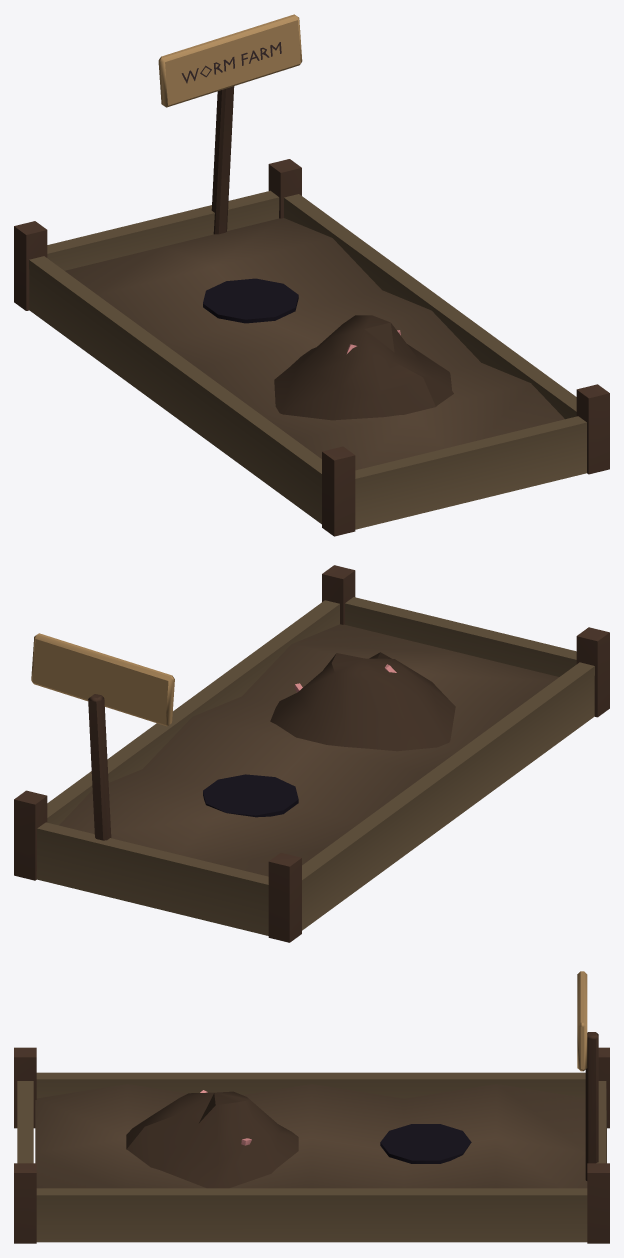
The model's file is plot_grub.glb.
3 views of the same model, one above another, from view 1: azimuth 30°, elevation 25°; view 2: azimuth 150°, elevation 25°; view 3: azimuth 270°, elevation 25° (orthographic). The views are drawn at different scales.
Parts seen in each view (by area): view 1: plot_grub, turned; view 2: plot_grub, turned; view 3: plot_grub, turned.
Boxes of the visible parts, left/top/right/bottom form: plot_grub: left=14, top=14, right=609, bottom=536; turned: left=203, top=278, right=453, bottom=420; plot_grub: left=14, top=565, right=609, bottom=942; turned: left=203, top=652, right=455, bottom=817; plot_grub: left=14, top=971, right=609, bottom=1243; turned: left=126, top=1090, right=471, bottom=1188.
Bounding box in the file's own units: 0.91 × 0.7352 × 1.83.
